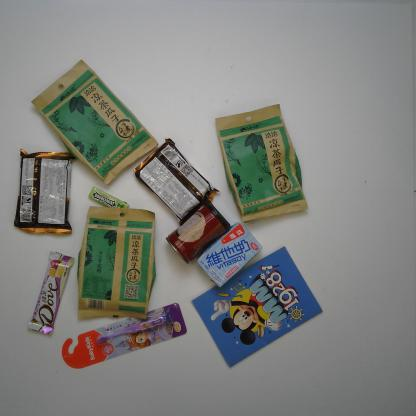Canned Food: (164, 200, 232, 265)
Chocolate: (26, 250, 74, 334)
Dessert: (132, 136, 222, 226), (13, 147, 77, 234)
Dried Food: (30, 58, 160, 187), (214, 103, 310, 224), (76, 205, 158, 321)
Gum: (89, 186, 130, 209)
Milk: (196, 220, 263, 288)
Personal Hygiene: (61, 302, 188, 370)
Stationery: (190, 246, 324, 368)
